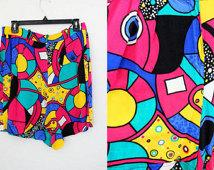C_shorts: (1, 16, 99, 152)
